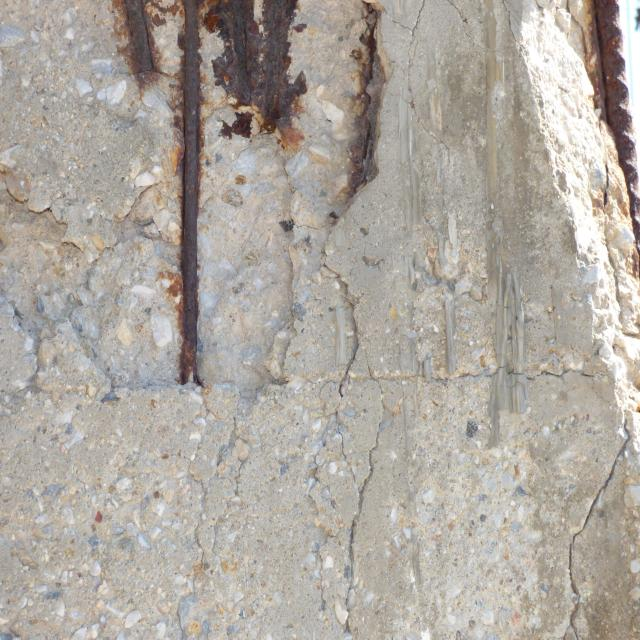corrosion: (93, 0, 415, 392), (581, 2, 640, 321)
